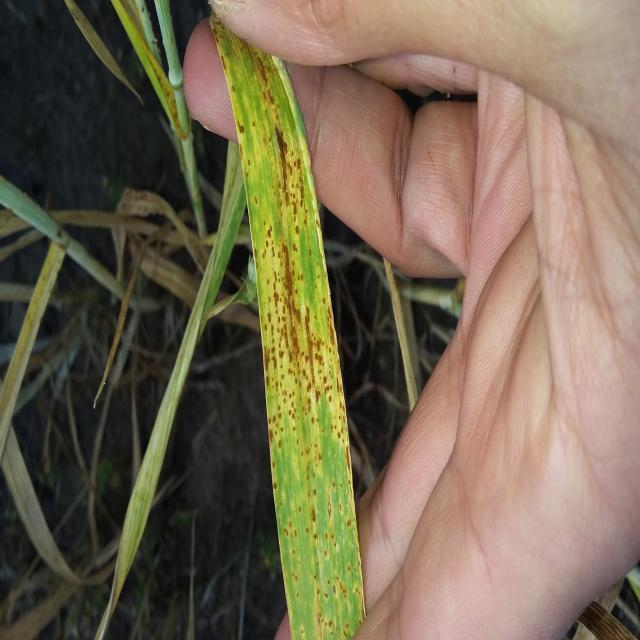Stem_Rust: (213, 46, 367, 631)
